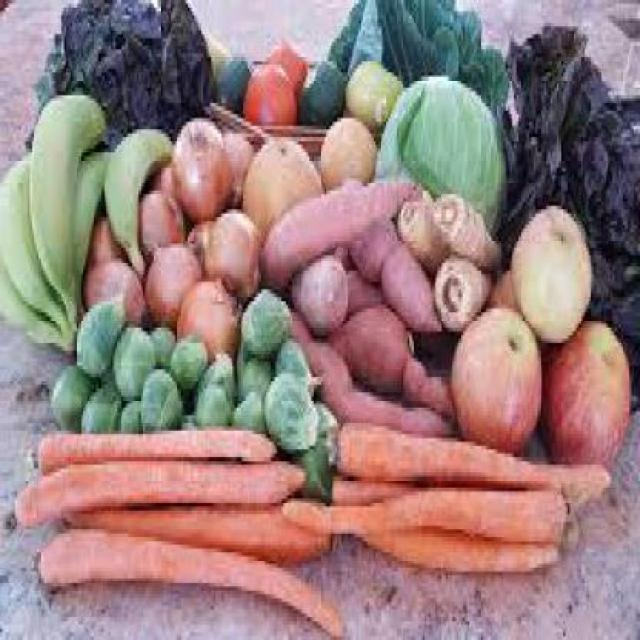BIODEGRADABLE: (504, 19, 639, 404), (41, 522, 345, 636), (28, 0, 220, 160), (326, 0, 512, 115), (340, 414, 614, 492), (378, 72, 510, 230), (15, 458, 311, 525), (288, 312, 457, 426), (30, 88, 107, 328), (262, 172, 422, 286), (67, 498, 335, 560), (451, 301, 546, 453), (544, 317, 633, 465), (32, 419, 279, 472), (2, 145, 70, 332), (512, 202, 596, 343), (286, 488, 576, 526), (104, 122, 176, 275), (354, 213, 444, 324), (356, 530, 561, 576), (243, 138, 326, 236), (328, 301, 414, 393), (74, 146, 114, 308), (174, 114, 234, 217), (2, 274, 80, 351), (430, 186, 508, 263), (290, 248, 350, 328), (435, 248, 493, 328), (347, 53, 405, 130), (76, 294, 129, 377), (268, 369, 321, 449), (85, 255, 150, 320), (318, 115, 379, 182), (243, 58, 299, 125), (335, 468, 427, 507), (402, 343, 455, 408), (114, 320, 158, 397), (243, 282, 292, 350), (399, 195, 448, 262), (274, 328, 326, 389), (142, 187, 188, 251), (141, 362, 184, 430), (300, 53, 346, 115), (53, 359, 96, 423), (288, 438, 334, 496), (224, 126, 258, 194), (215, 50, 254, 107), (171, 332, 209, 388), (82, 374, 122, 426), (310, 396, 342, 461), (196, 350, 239, 396), (194, 377, 234, 426), (89, 210, 126, 259), (238, 350, 276, 396), (235, 385, 267, 426), (276, 34, 310, 72), (149, 320, 177, 366), (153, 156, 178, 190), (208, 34, 232, 64), (122, 396, 143, 427), (179, 408, 196, 426)
